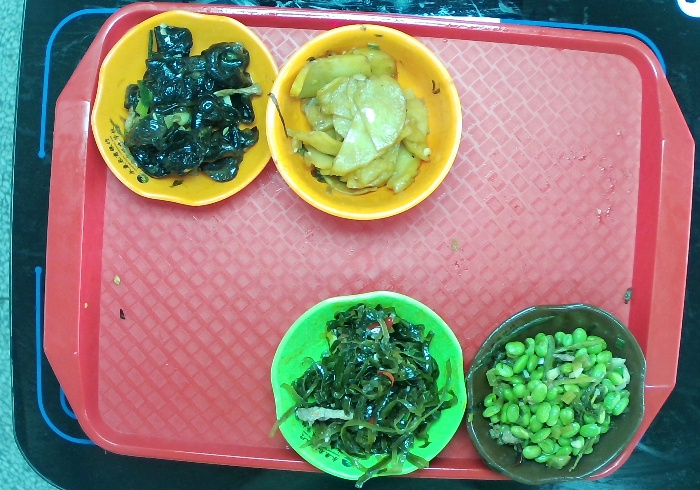YKMZ-Ju_Se_Ao_Bian_Wan: (91, 6, 280, 206)
YKMZ-Ju_Se_Yuan_Wan: (266, 25, 466, 228)
YKMZ-Ka_Fei_Ao_Bian_Wan: (464, 305, 649, 481)
YKMZ-Lv_Se_Ao_Bian_Wan: (273, 292, 467, 480)
